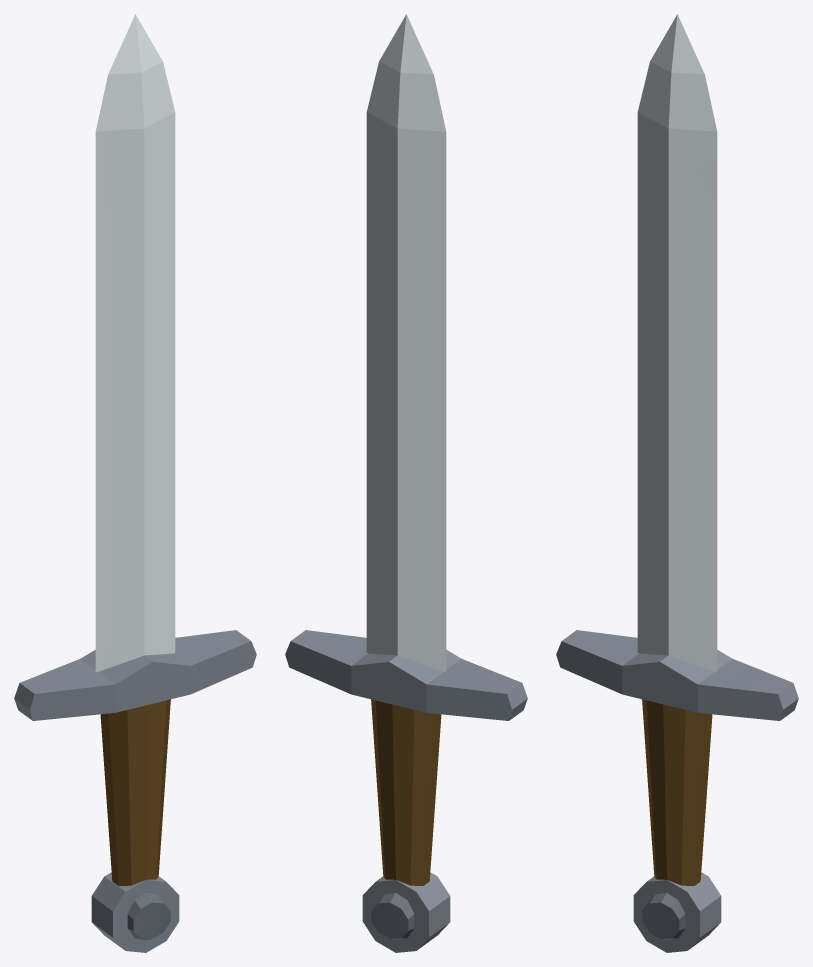
File: starter_sword.fbx
The picture shows the model from 3 angles, left to right: view 1: azimuth 30°, elevation 25°; view 2: azimuth 150°, elevation 25°; view 3: azimuth 330°, elevation 25°; orthographic projection.
Parts seen in each view (by area): view 1: Cylinder.004; view 2: Cylinder.004; view 3: Cylinder.004.
Part boxes in pixels (left/top/right/bottom): Cylinder.004: left=14, top=14, right=256, bottom=952; Cylinder.004: left=285, top=14, right=527, bottom=952; Cylinder.004: left=556, top=14, right=798, bottom=952.
Bounding box in the file's own units: 0.2115 × 0.8286 × 0.0565.
